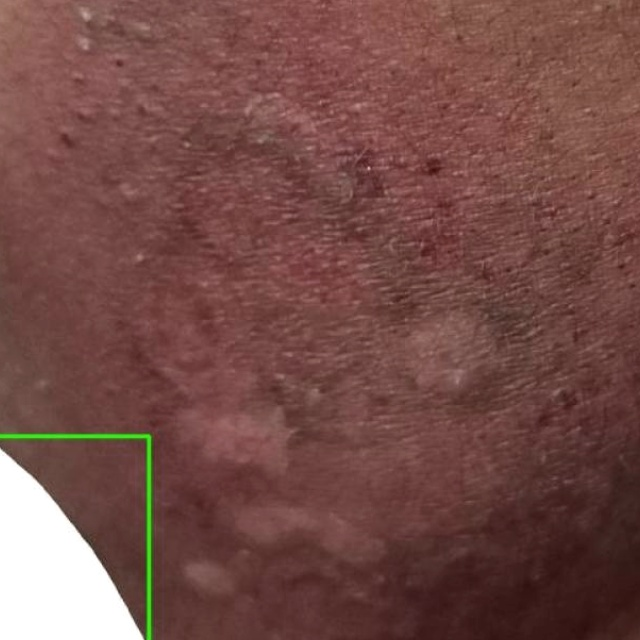Eczema: (0, 436, 148, 639)
